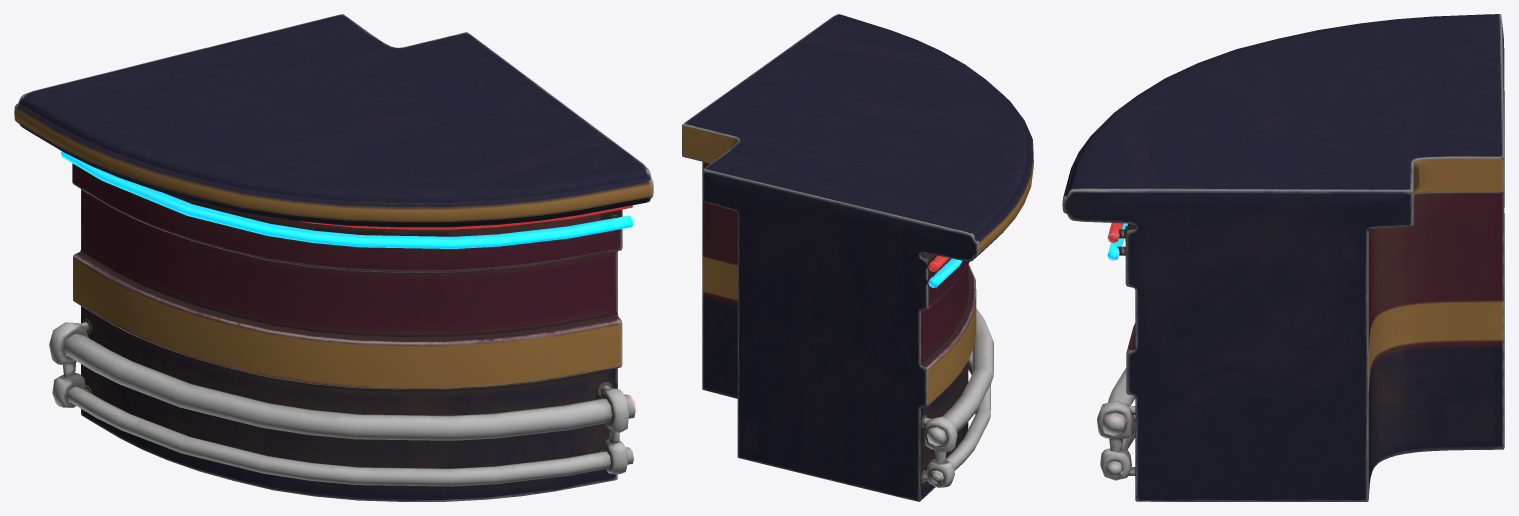
Rendered from SM_Counter2.fbx.
3 renders of one model, left to right at view 1: azimuth 30°, elevation 25°; view 2: azimuth 150°, elevation 25°; view 3: azimuth 270°, elevation 25°, orthographic. The views are drawn at different scales.
Parts seen in each view (by area): view 1: SM_Counter2_LOD0; view 2: SM_Counter2_LOD0; view 3: SM_Counter2_LOD0.
Part boxes in pixels (left/top/right/bottom): SM_Counter2_LOD0: left=14, top=14, right=653, bottom=501; SM_Counter2_LOD0: left=682, top=14, right=1033, bottom=501; SM_Counter2_LOD0: left=1062, top=14, right=1504, bottom=501.
Bounding box in the file's own units: 150 × 153 × 119.
1 material, 1 textured.
